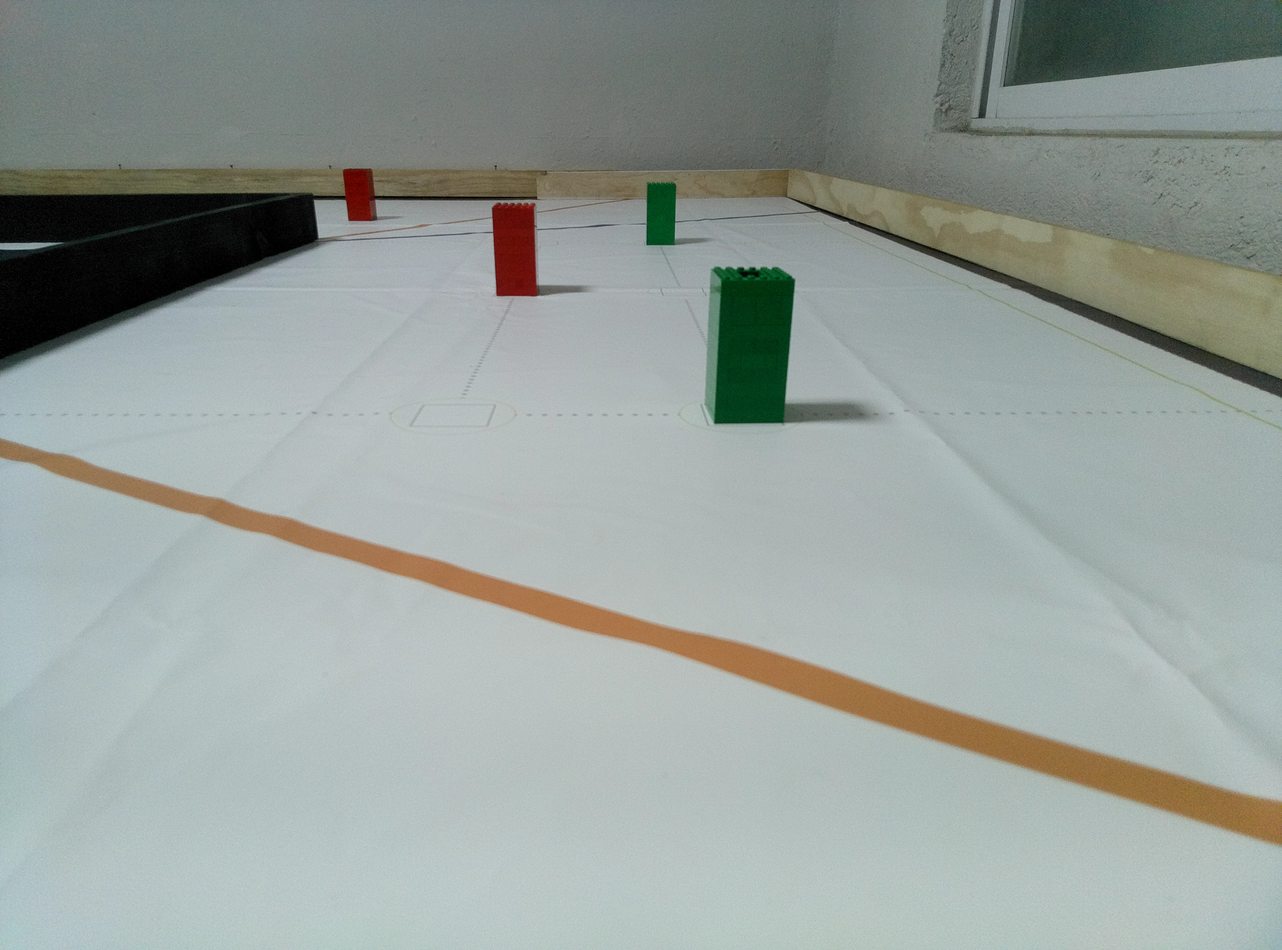greenbox: (701, 263, 797, 426), (645, 181, 678, 247)
redbox: (489, 201, 543, 298), (341, 167, 378, 222)
